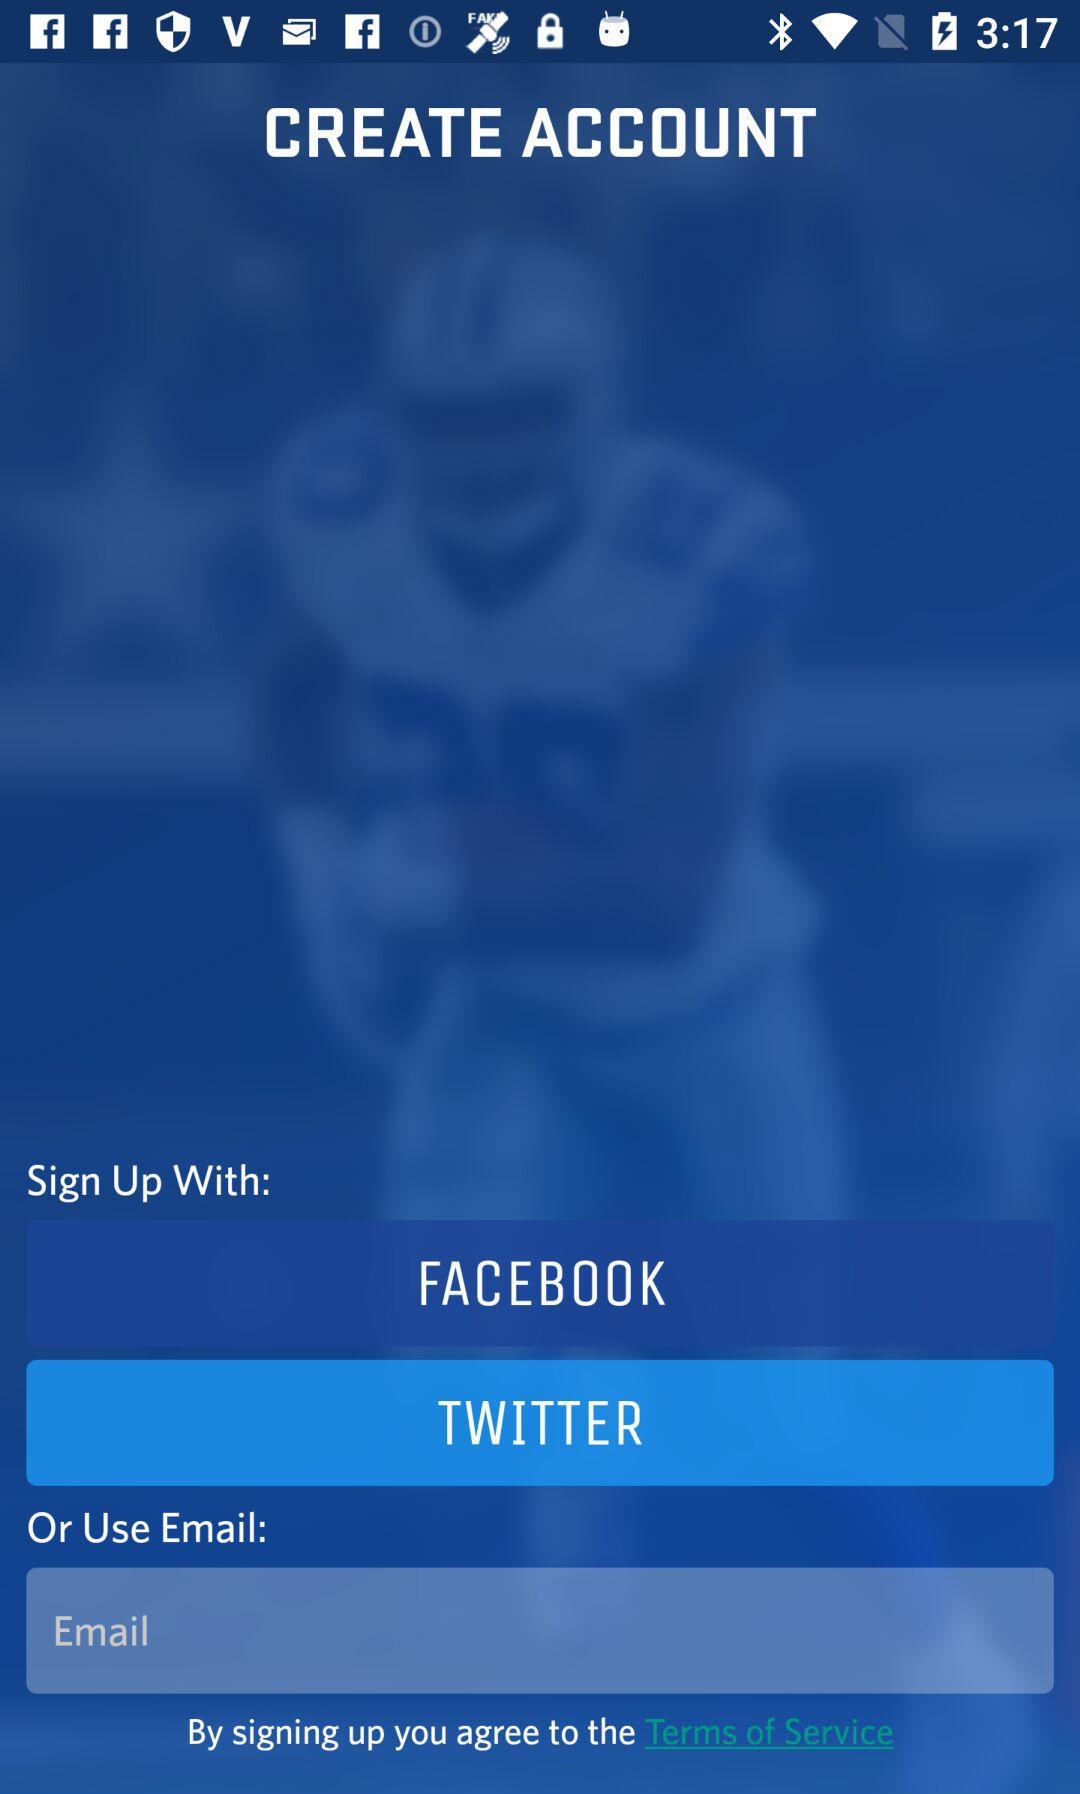Text: (265, 108, 817, 160), (190, 1717, 896, 1753), (27, 1164, 272, 1205), (27, 1510, 268, 1547)
TextButton: (26, 1567, 1054, 1695), (26, 1221, 1054, 1349), (26, 1360, 1054, 1486)
UpperTaskBar: (1, 1, 1080, 64)
